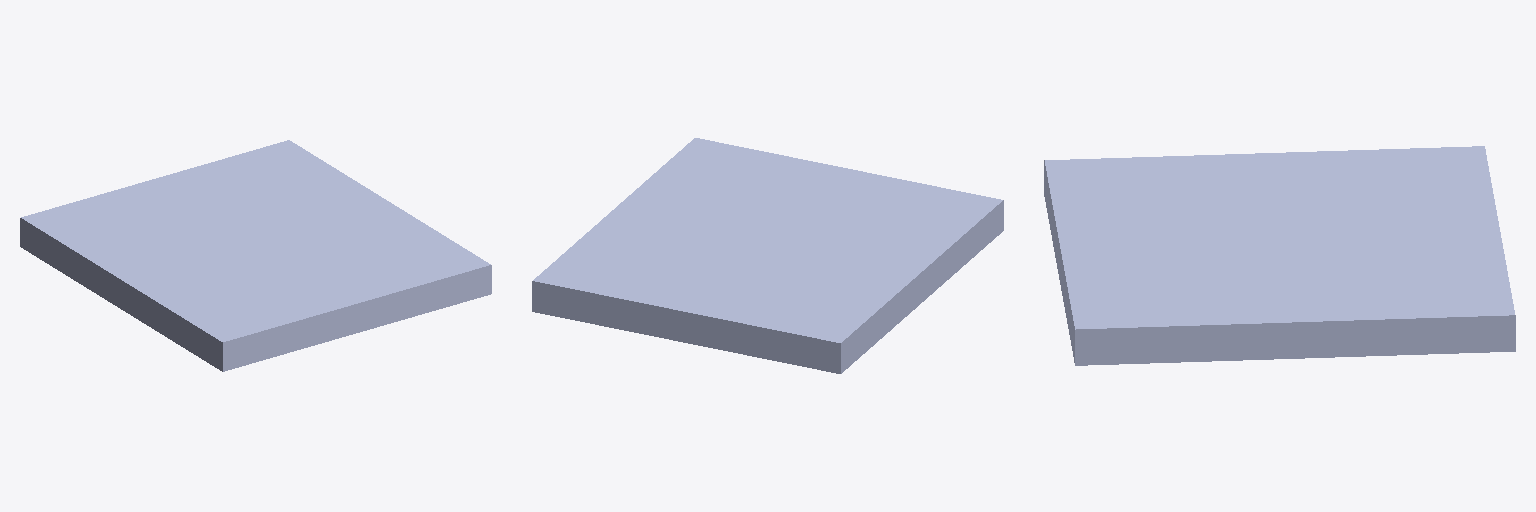
The robot description file, URDF, robot "finale_urdf":
<?xml version="1.0" encoding="utf-8"?>
<!-- This URDF was automatically created by SolidWorks to URDF Exporter! Originally created by [author] ([email redacted]) 
     Commit Version: 1.6.0-4-g7f85cfe  Build Version: 1.6.7995.38578
     For more information, please see http://wiki.ros.org/sw_urdf_exporter -->
<robot
  name="finale_urdf">
  <link
    name="base_link">
    <inertial>
      <origin
        xyz="6.14039351025579 -0.931744875735205 5.4534450156044"
        rpy="0 0 0" />
      <mass
        value="128389.529119028" />
      <inertia
        ixx="207734.841601762"
        ixy="-30587.0251202211"
        ixz="-15120.5693296839"
        iyy="594857.867856446"
        iyz="-2761.2385664912"
        izz="573865.313012811" />
    </inertial>
    <visual>
      <origin
        xyz="0 0 0"
        rpy="0 0 0" />
      <geometry>
        <mesh
          filename="package://finale_urdf/meshes/base_link.STL" />
      </geometry>
      <material
        name="">
        <color
          rgba="0.792156862745098 0.819607843137255 0.933333333333333 1" />
      </material>
    </visual>
    <collision>
      <origin
        xyz="0 0 0"
        rpy="0 0 0" />
      <geometry>
        <mesh
          filename="package://finale_urdf/meshes/base_link.STL" />
      </geometry>
    </collision>
  </link>
  <link
    name="slab">
    <inertial>
      <origin
        xyz="0.411537078651408 0.0253999999996246 -0.0544149812733431"
        rpy="0 0 0" />
      <mass
        value="14.4206163199997" />
      <inertia
        ixx="0.378346596217114"
        ixy="-4.22669160641216E-18"
        ixz="5.23886489744996E-16"
        iyy="0.685365555442476"
        iyz="4.9909329696608E-13"
        izz="0.313221362442036" />
    </inertial>
    <visual>
      <origin
        xyz="0 0 0"
        rpy="0 0 0" />
      <geometry>
        <mesh
          filename="package://finale_urdf/meshes/slab.STL" />
      </geometry>
      <material
        name="">
        <color
          rgba="0.792156862745098 0.819607843137255 0.933333333333333 1" />
      </material>
    </visual>
    <collision>
      <origin
        xyz="0 0 0"
        rpy="0 0 0" />
      <geometry>
        <mesh
          filename="package://finale_urdf/meshes/slab.STL" />
      </geometry>
    </collision>
  </link>
  <joint
    name="base_slab"
    type="fixed">
    <origin
      xyz="-11.076 -0.0062402 20.667"
      rpy="1.5708 0 0.076356" />
    <parent
      link="base_link" />
    <child
      link="slab" />
    <axis
      xyz="0 0 0" />
  </joint>
</robot>

--- Facts derived from the render (not from the file) ---
The picture shows the robot from 3 angles, left to right: view 1: azimuth 30°, elevation 25°; view 2: azimuth 150°, elevation 25°; view 3: azimuth 270°, elevation 25°; orthographic projection.
Robot: finale_urdf — 2 links, 1 joints (1 fixed); root link base_link; default pose: every joint at zero.
Visible links, largest first — view 1: slab; view 2: slab; view 3: slab.
Link boxes in pixels (box(x1,y1,x2,y2)): slab: box(20, 140, 491, 371); slab: box(532, 138, 1003, 373); slab: box(1044, 146, 1515, 365).
Size in the robot's own frame: 0.5491 by 0.5959 by 0.0508 metres.
1 mesh visuals loaded from 2 distinct referenced files (1 binary STL); not drawn: 1 (reference not matched to a file when rendering).